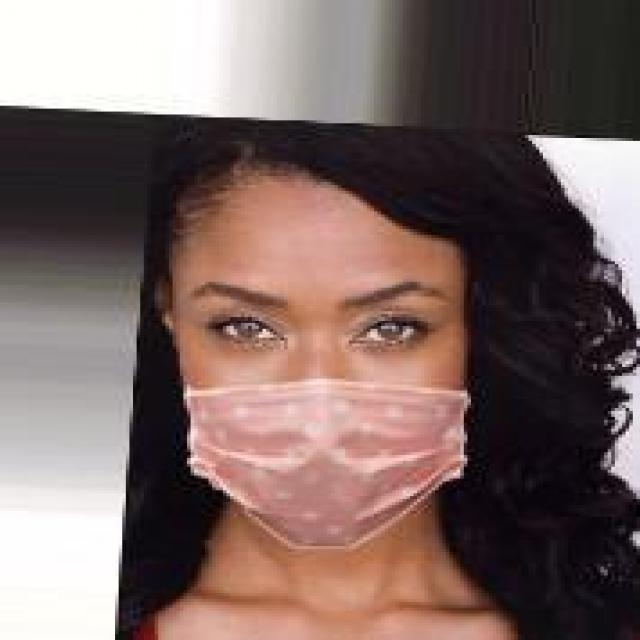mask: (104, 88, 579, 575)
